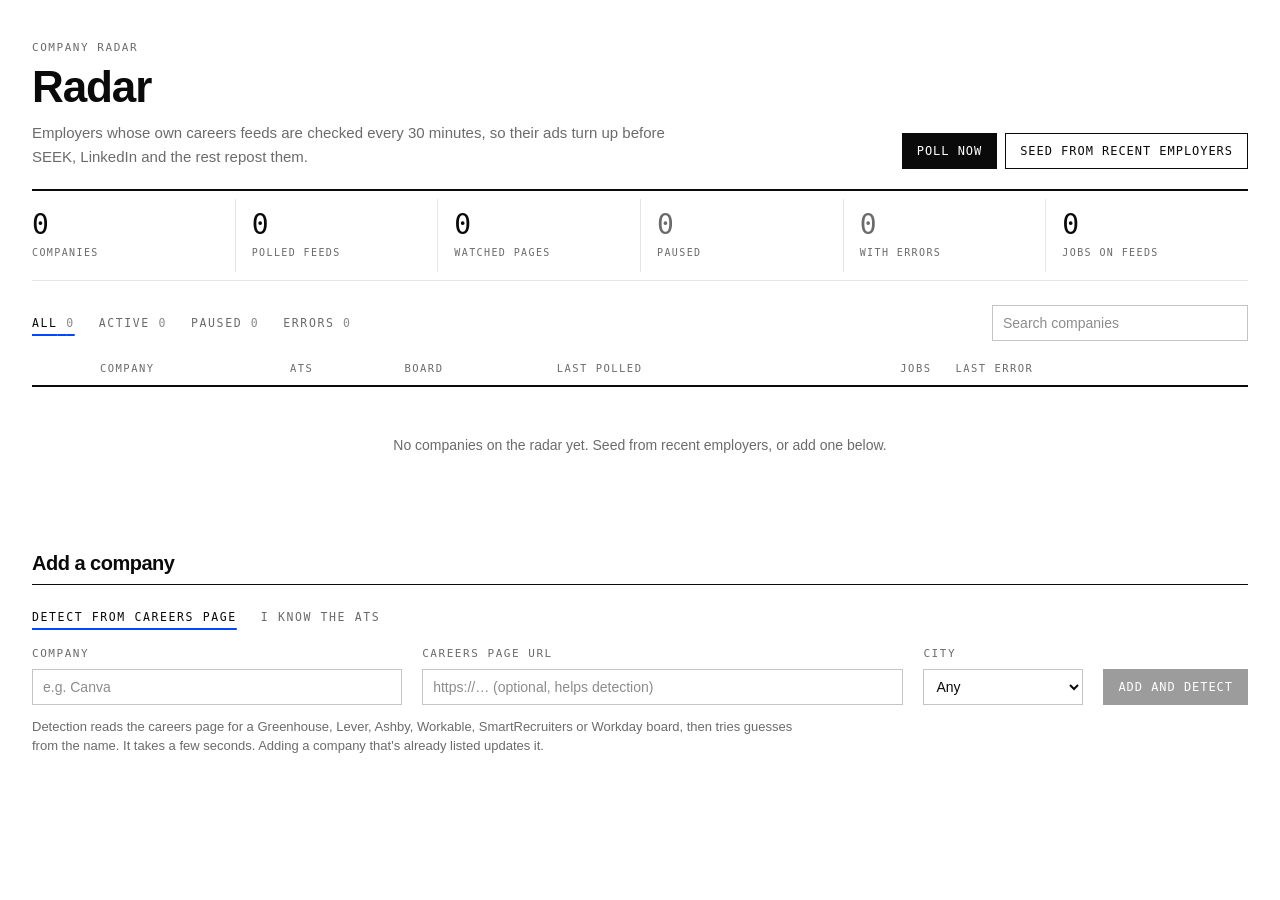
Scenario: RadarPage › adds a company by careers URL (detect) or by ATS + slug
Later steps or results of the test are not shown.
Check: the text "No companies on the radar yet" is shown, box 393,437 -> 887,453
Check: the button "Add and detect" is disabled, box 1103,669 -> 1248,705
Type "Canva" into the field labelled "Company".
click(217, 687); type("Canva")  # box 32,669 -> 402,705
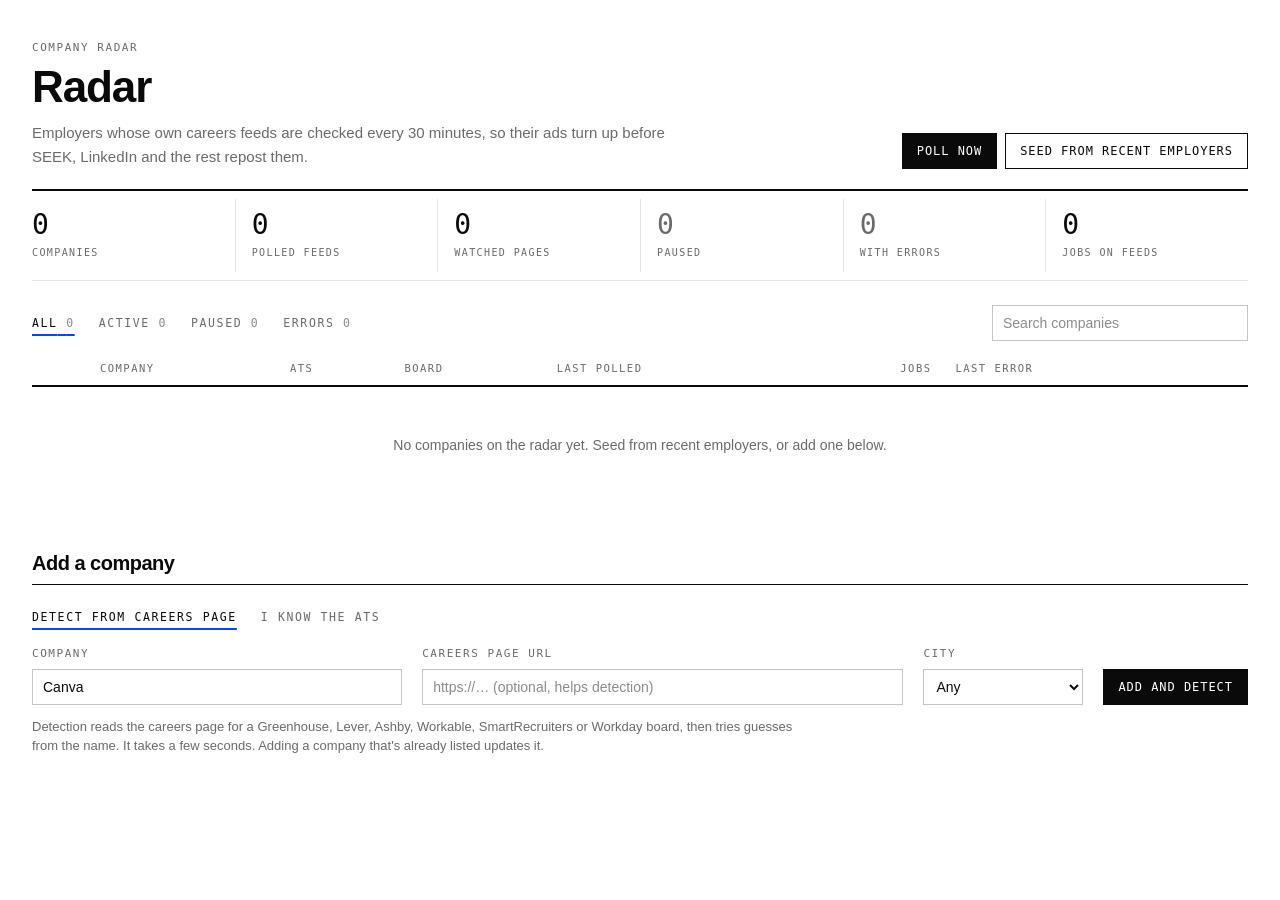
Type "https://www.canva.com/careers" into the field labelled "Careers page URL".
click(663, 687); type("https://www.canva.com/careers")  # box 422,669 -> 903,705
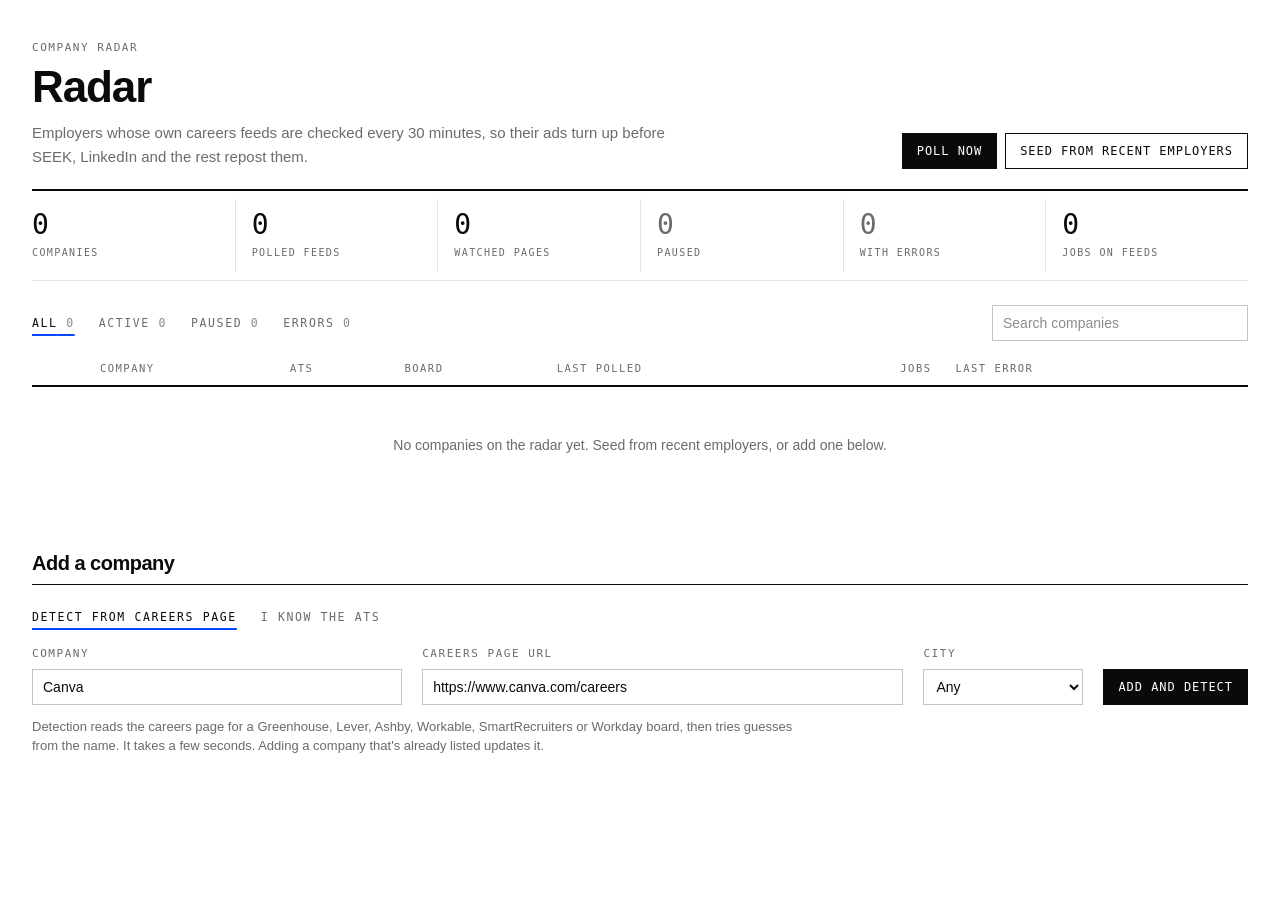
Click the button "Add and detect".
click(1176, 687)  # box 1103,669 -> 1248,705
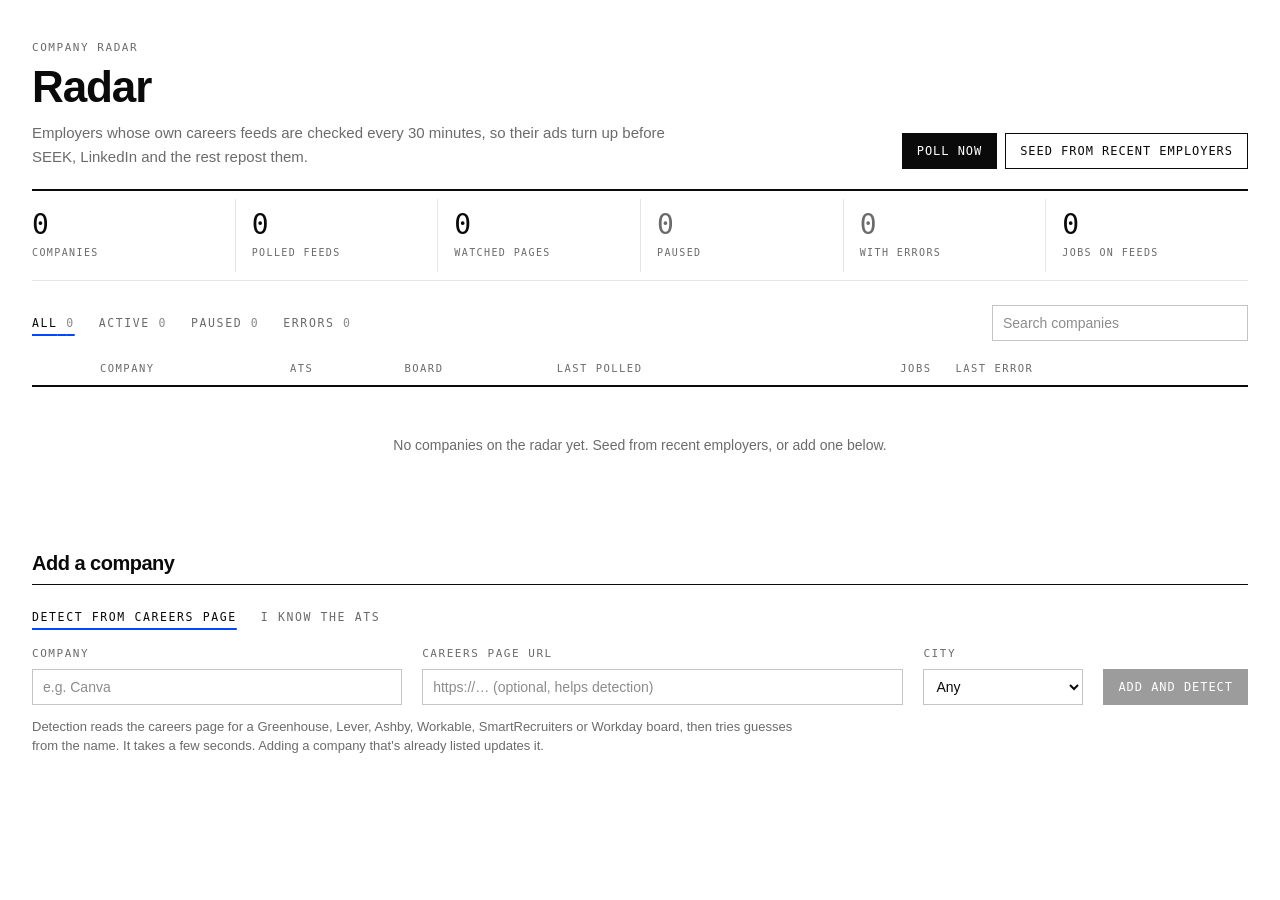
Click the radio button labelled "I know the ATS".
click(321, 618)  # box 261,605 -> 380,630
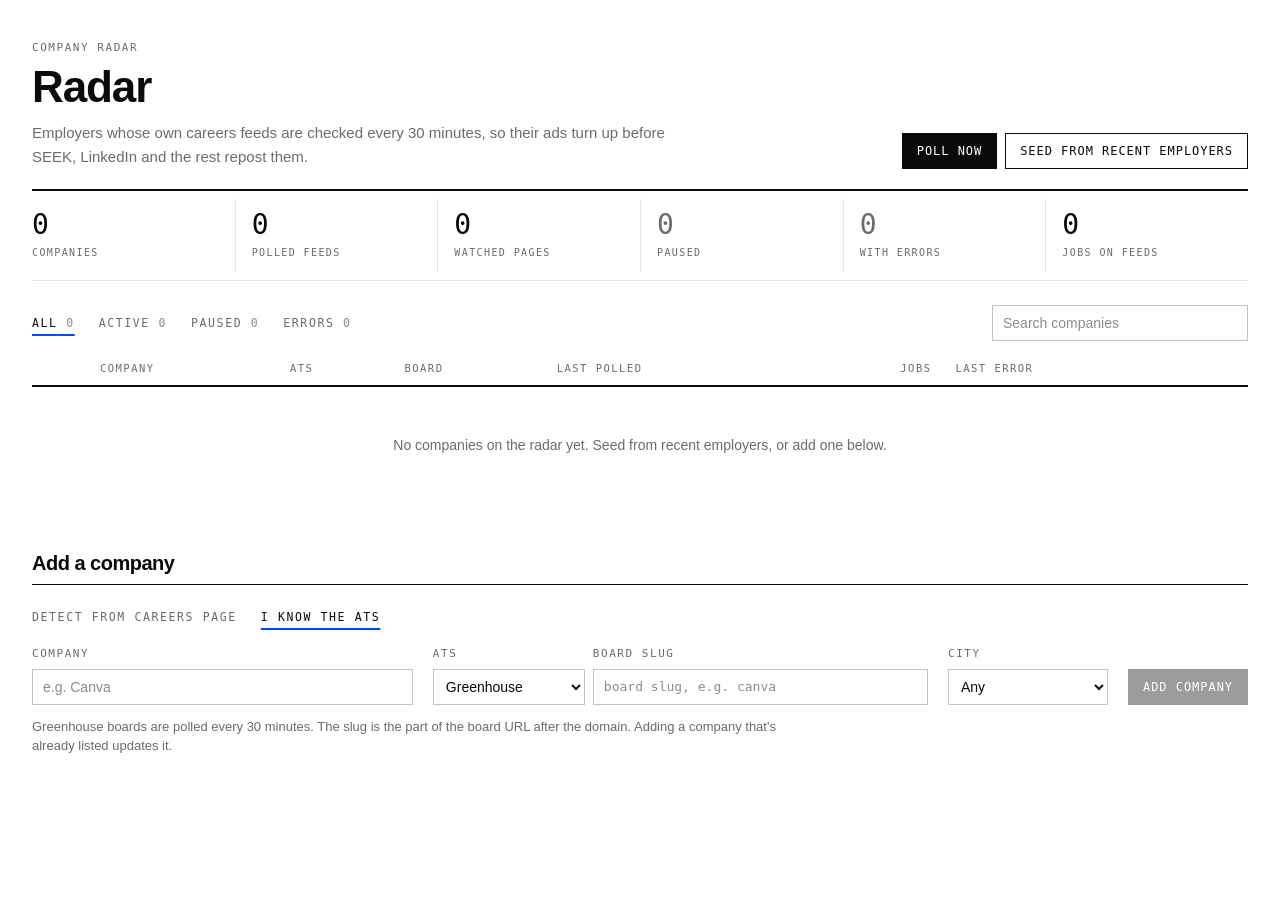
Type "Immutable" into the field labelled "Company".
click(222, 687); type("Immutable")  # box 32,669 -> 413,705
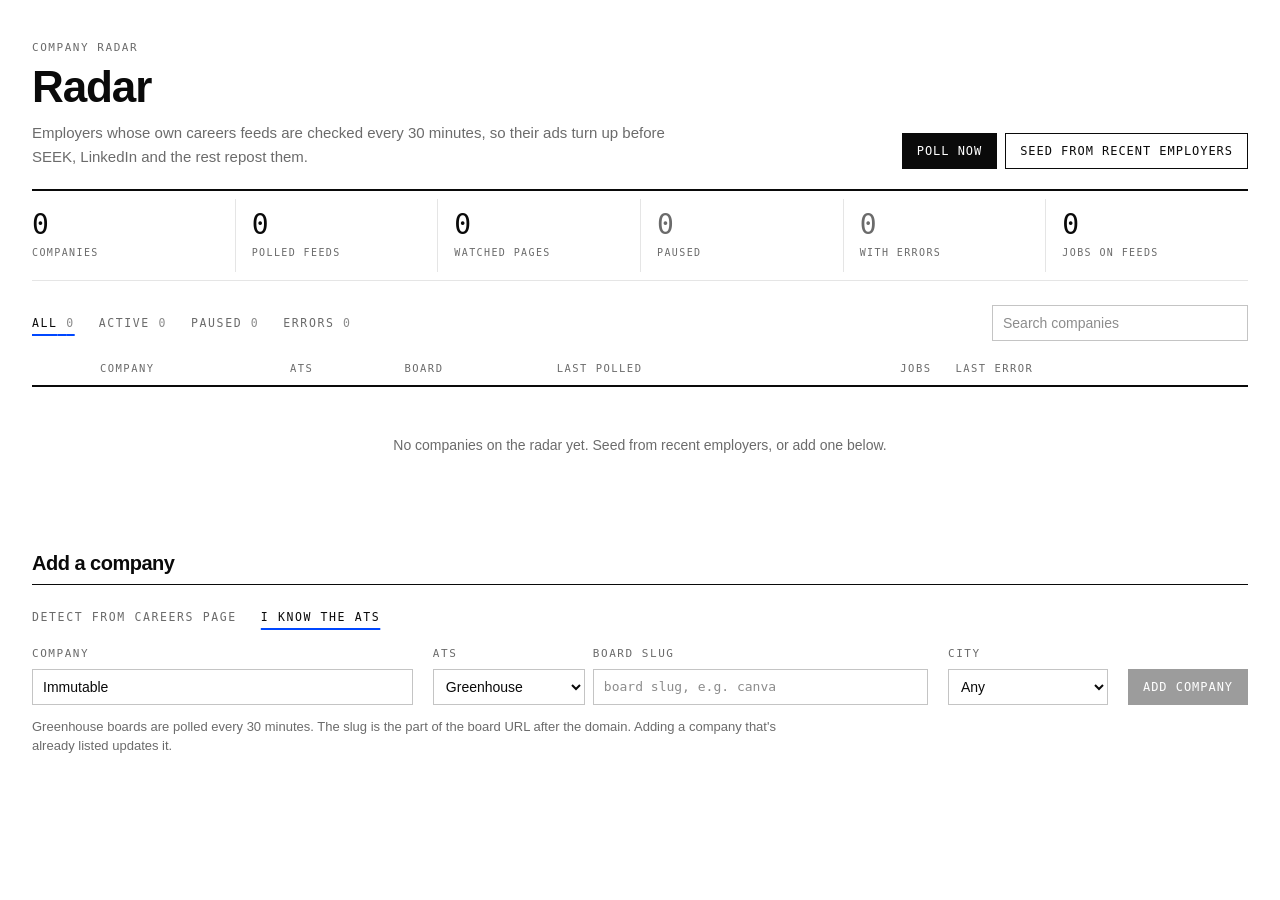
Select "Lever" in the dropdown labelled "ATS" at (509, 687), box 433,669 -> 585,705
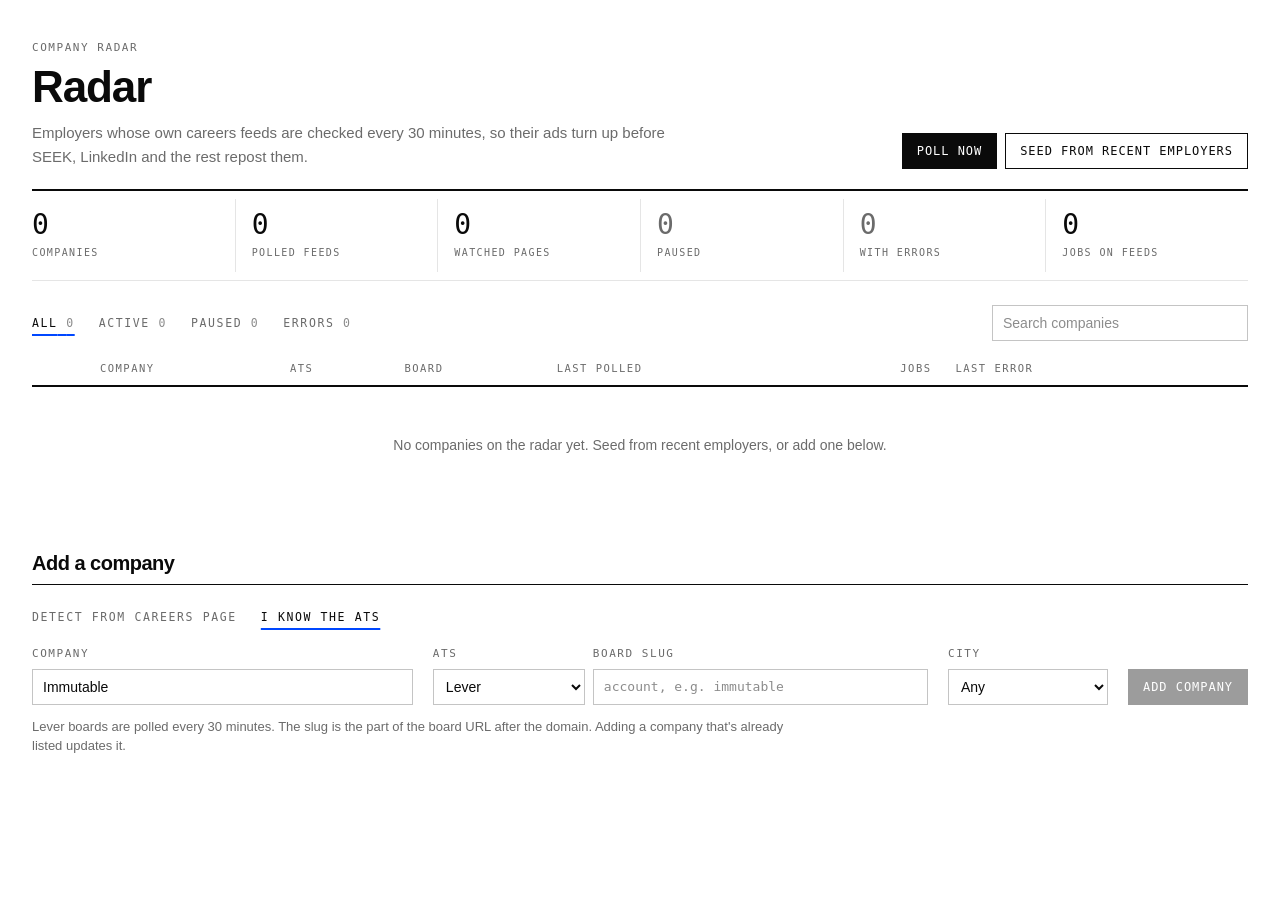
Check: the button "Add company" is disabled, box 1128,669 -> 1248,705
